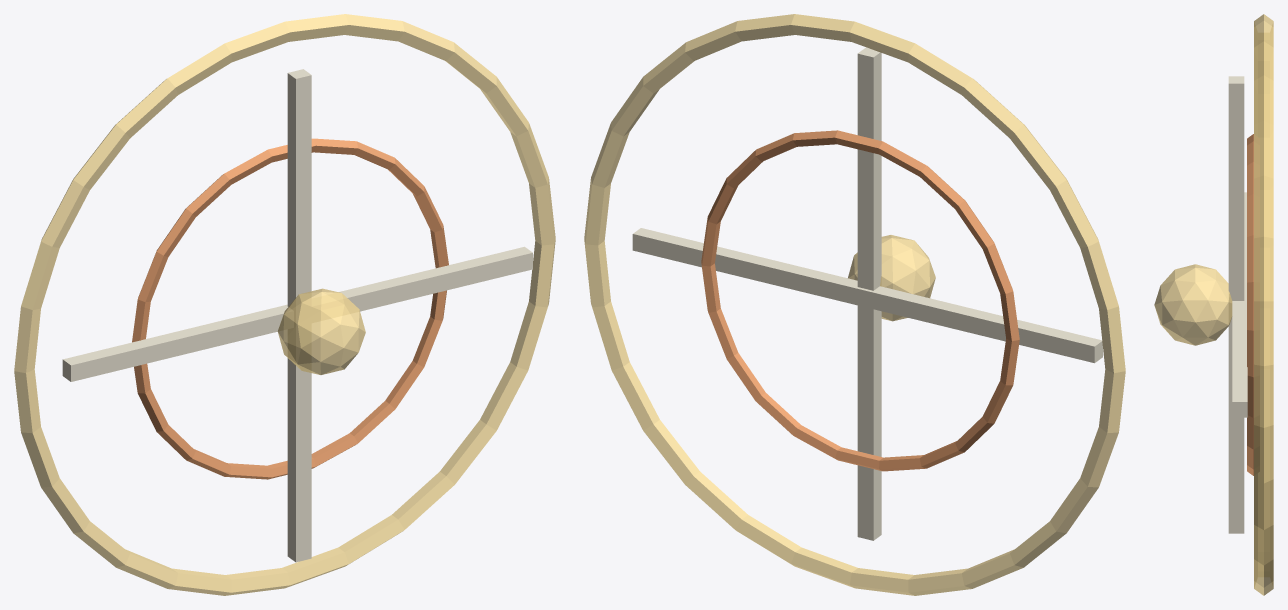
File: 06_combat_flow_anchor.glb
3 views of the same model, side by side, from view 1: azimuth 30°, elevation 25°; view 2: azimuth 150°, elevation 25°; view 3: azimuth 270°, elevation 25° (orthographic). The views are drawn at different scales.
Parts seen in each view (by area): view 1: flow_outer_ring, flow_inner_ring, flow_lane_cross, flow_lane_forward, perfect_flow_core; view 2: flow_outer_ring, flow_inner_ring, flow_lane_forward, flow_lane_cross, perfect_flow_core; view 3: flow_outer_ring, flow_lane_cross, perfect_flow_core, flow_inner_ring, flow_lane_forward.
Boxes of the visible parts, <box> form: flow_outer_ring: <box>14,14,555,595</box>; flow_inner_ring: <box>132,138,448,479</box>; flow_lane_cross: <box>287,69,311,562</box>; flow_lane_forward: <box>62,246,532,381</box>; perfect_flow_core: <box>277,288,365,374</box>; flow_outer_ring: <box>584,14,1125,595</box>; flow_inner_ring: <box>701,130,1019,471</box>; flow_lane_forward: <box>632,228,1102,363</box>; flow_lane_cross: <box>857,47,881,540</box>; perfect_flow_core: <box>848,235,935,321</box>; flow_outer_ring: <box>1254,14,1273,595</box>; flow_lane_cross: <box>1228,76,1244,533</box>; perfect_flow_core: <box>1154,264,1232,345</box>; flow_inner_ring: <box>1247,134,1259,475</box>; flow_lane_forward: <box>1232,192,1247,417</box>.
Bounding box in the file's own units: 1.7 × 1.7 × 0.3485.
